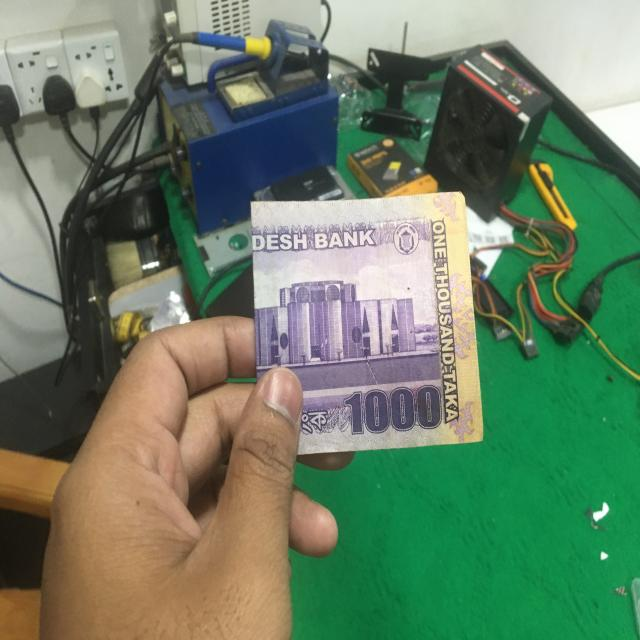Taka: (253, 197, 482, 446)
